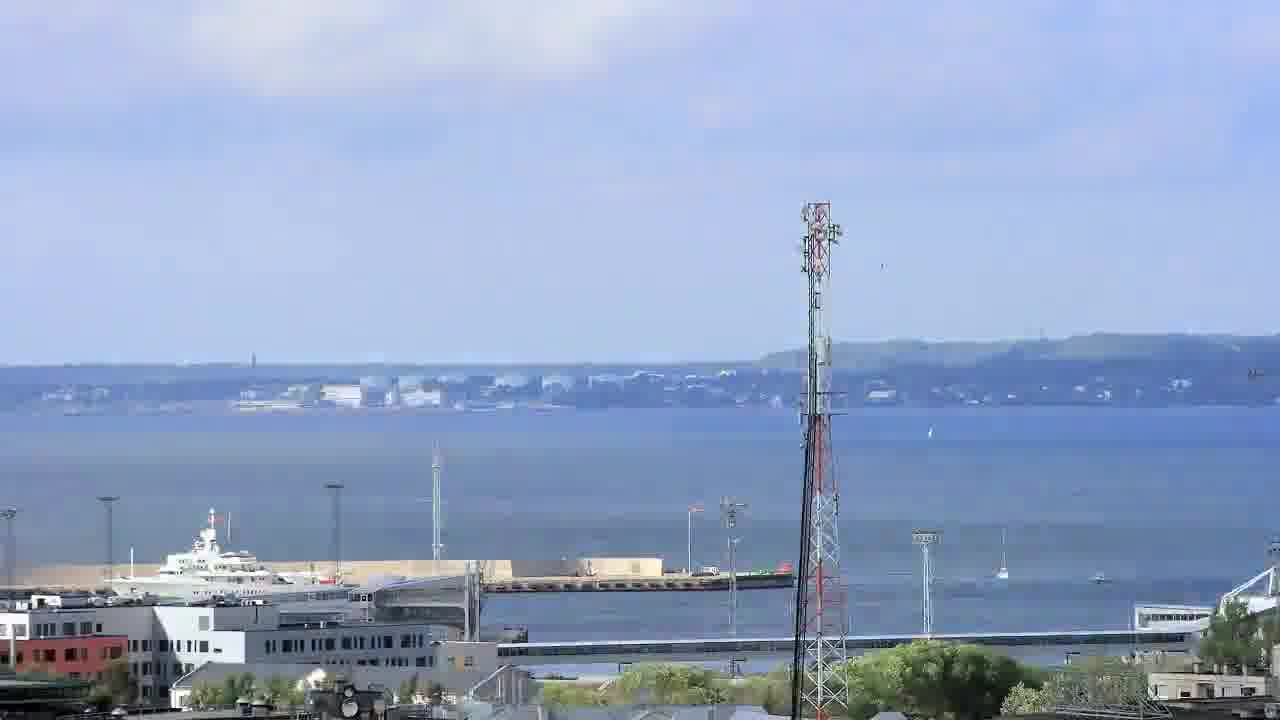type-0: (966, 523, 1027, 600)
type-3: (72, 492, 370, 608)
